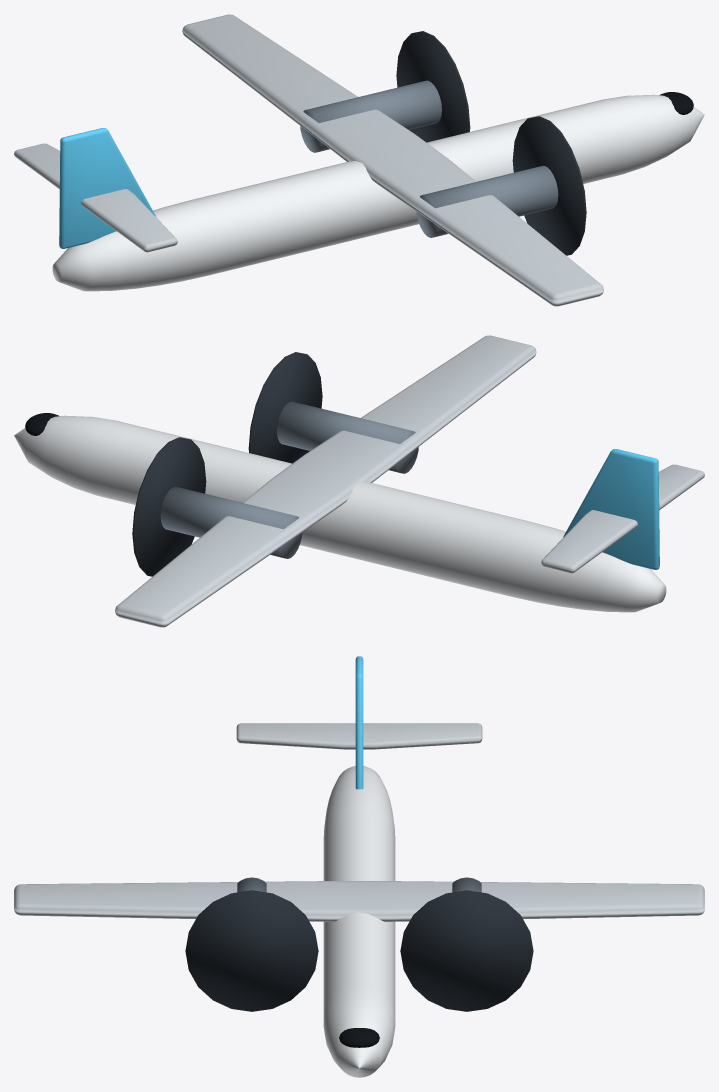
Rendered from prop_civ.glb.
3 views of the same model, one above another, from view 1: azimuth 30°, elevation 25°; view 2: azimuth 150°, elevation 25°; view 3: azimuth 270°, elevation 25° (orthographic). The views are drawn at different scales.
Parts seen in each view (by area): view 1: fus, wing, fin, prop1, prop-1, stab, nac1, nac-1; view 2: fus, wing, fin, prop-1, prop1, stab, nac-1, nac1; view 3: wing, fus, prop1, prop-1, stab, fin, glass.
Boxes of the visible parts, x1,y1,x2,y2 form: fus: (52, 94, 704, 291); wing: (182, 14, 603, 306); fin: (59, 128, 155, 248); prop1: (512, 116, 586, 255); prop-1: (396, 31, 470, 142); stab: (14, 143, 177, 252); nac1: (416, 165, 558, 237); nac-1: (300, 80, 441, 152); fus: (14, 415, 666, 612); wing: (115, 335, 536, 627); fin: (563, 449, 659, 569); prop-1: (132, 437, 206, 576); prop1: (248, 352, 322, 463); stab: (541, 464, 704, 573); nac-1: (160, 486, 302, 558); nac1: (277, 401, 418, 473); wing: (14, 881, 704, 921); fus: (323, 766, 395, 1077); prop1: (185, 890, 318, 1011); prop-1: (400, 890, 533, 1011); stab: (236, 723, 482, 749); fin: (355, 656, 363, 789); glass: (339, 1028, 379, 1047).
Size of the model in its own units: 27 by 7 by 27.
